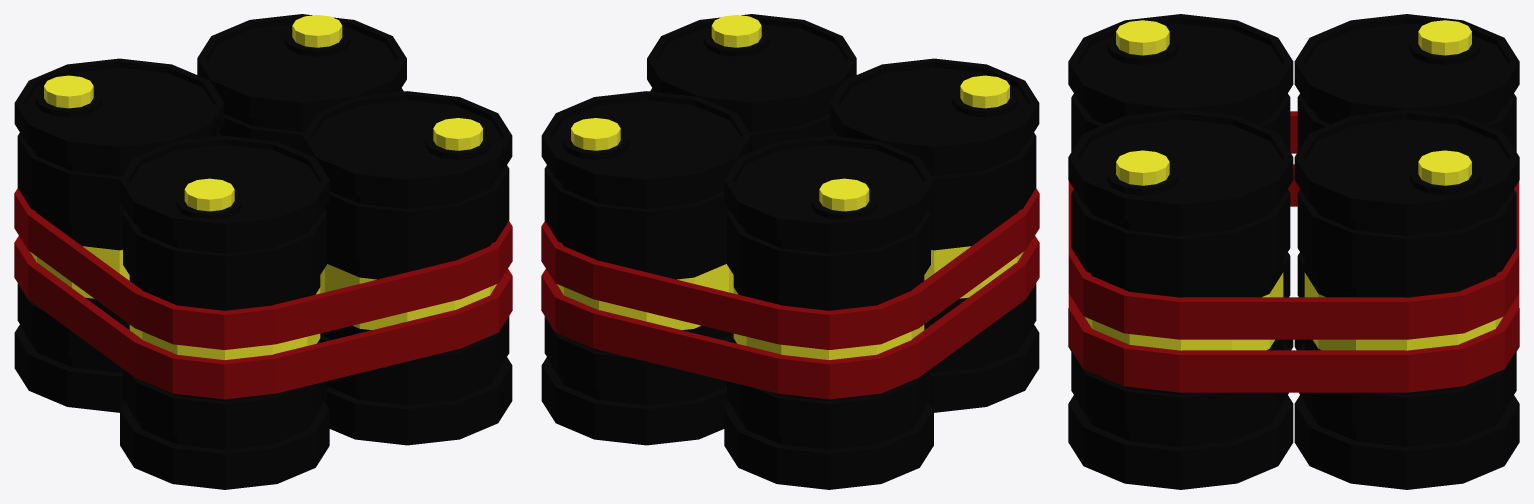
File: barrilNoir.fbx
3 renders of one model, left to right at view 1: azimuth 30°, elevation 25°; view 2: azimuth 150°, elevation 25°; view 3: azimuth 270°, elevation 25°, orthographic. The views are drawn at different scales.
Visible parts, largest first — view 1: Cube.005; view 2: Cube.005; view 3: Cube.005.
Part boxes in pixels (x1,y1,x2,y2): Cube.005: (14,14,512,489); Cube.005: (541,14,1039,489); Cube.005: (1068,14,1519,489).
Bounding box in the file's own units: 815 × 594 × 815.
1 material, 1 textured.
